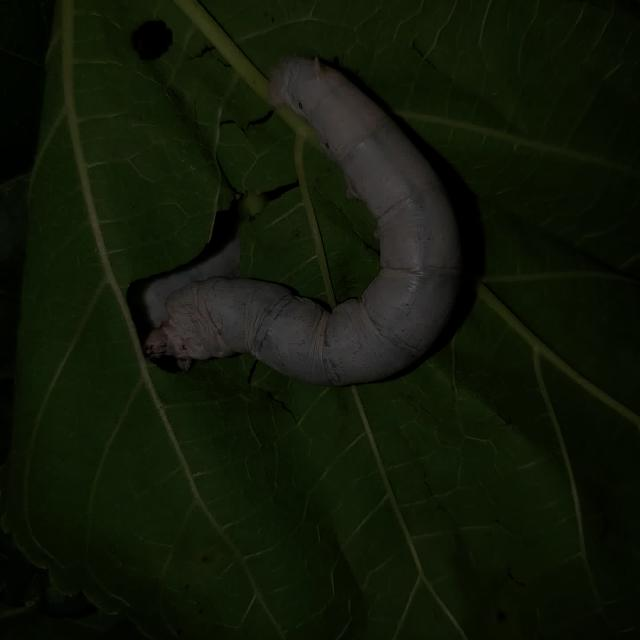Healthy: (136, 44, 474, 394)
